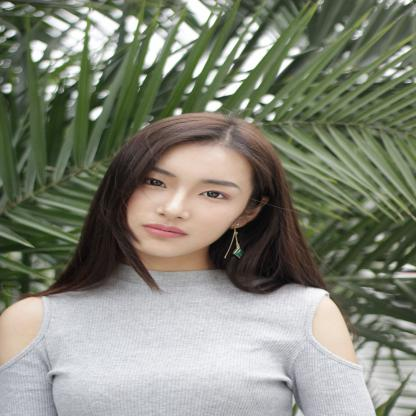Eye: (199, 190, 232, 201), (140, 178, 166, 190)
Mouth: (140, 223, 188, 239)
Nose: (156, 191, 190, 220)
